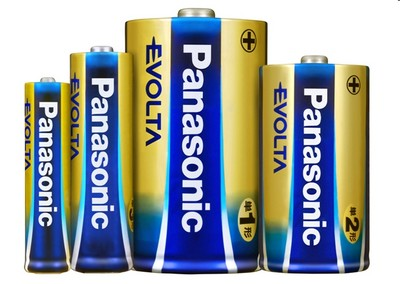Battery: (123, 7, 271, 276), (257, 55, 372, 276), (68, 45, 132, 276), (21, 76, 69, 277)
